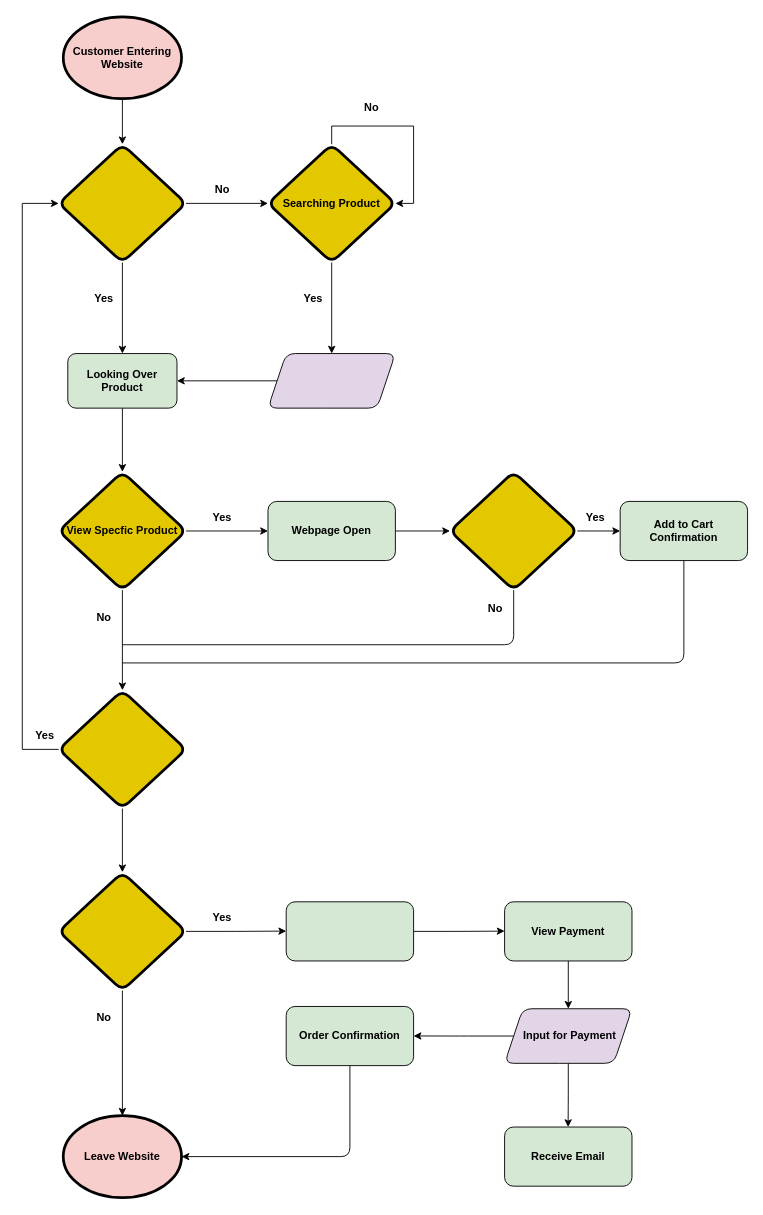
The diagram is 763 pixels wide and 1215 high, and some of its shapes have lost their labels. Each missing label, with the centre of its shape:
Add Item to Cart: the point at 513,530
Checkout: the point at 122,930
Continue Shopping: the point at 122,748
Exploring Product: the point at 122,202
Input for Search: the point at 331,380
View Cart Screen: the point at 349,931
